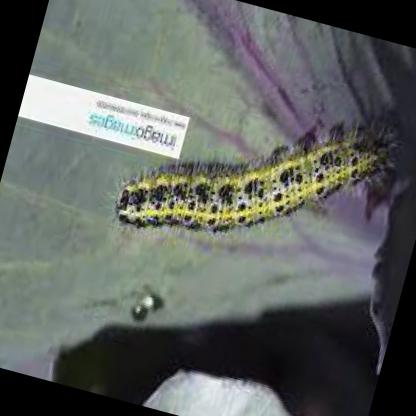pieris: (112, 119, 390, 236)
